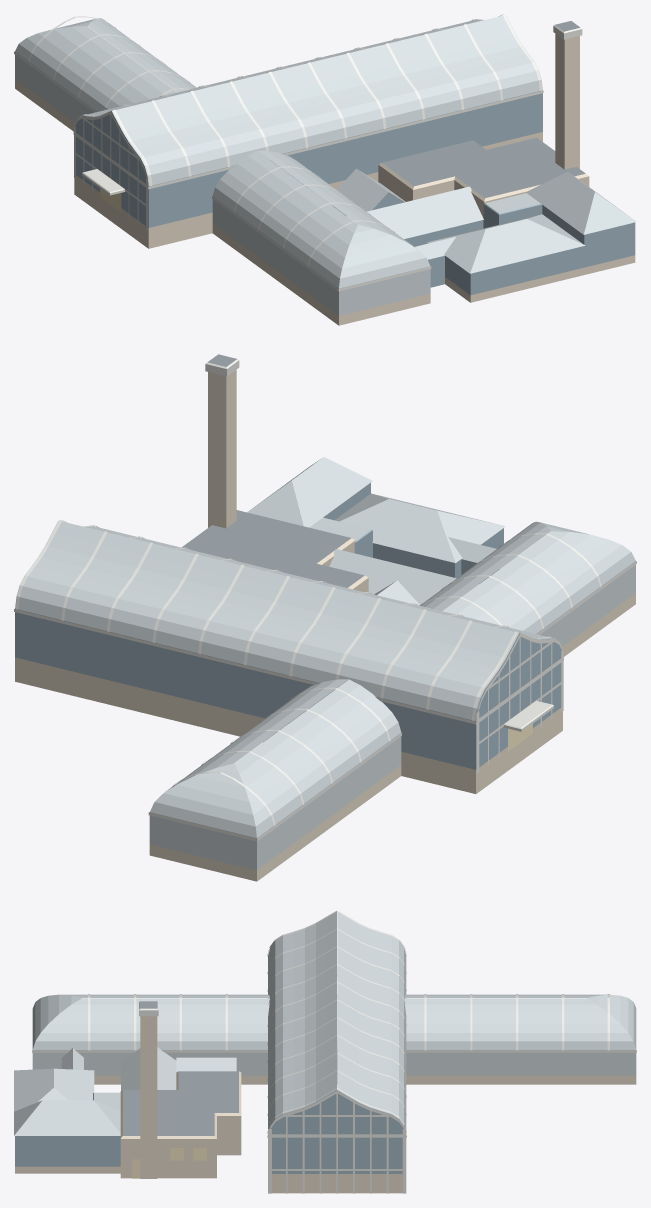
The model's file is cin-krohn-conservatory.glb.
3 views of the same model, one above another, from view 1: azimuth 30°, elevation 25°; view 2: azimuth 150°, elevation 25°; view 3: azimuth 270°, elevation 25° (orthographic). The views are drawn at different scales.
Visible parts, largest first — view 1: Krohn Conservatory; view 2: Krohn Conservatory; view 3: Krohn Conservatory.
Part boxes in pixels (x1,y1,x2,y2): Krohn Conservatory: [14, 14, 636, 325]; Krohn Conservatory: [14, 354, 636, 881]; Krohn Conservatory: [14, 911, 636, 1193].
Size of the model in its own units: 57.8 by 24.6 by 81.53.
